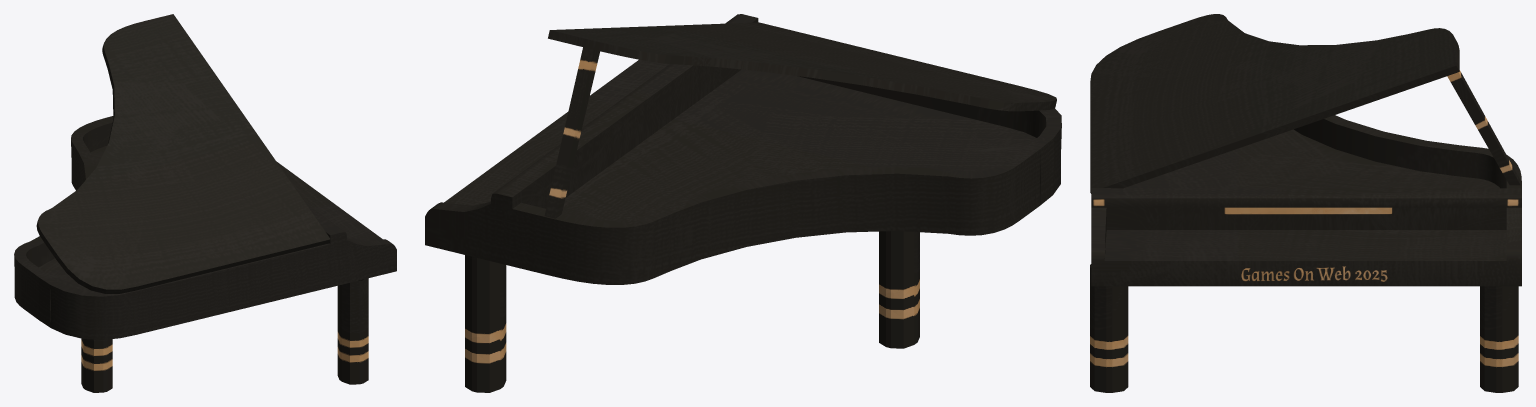
The model's file is piano_body.glb.
The picture shows the model from 3 angles, left to right: view 1: azimuth 30°, elevation 25°; view 2: azimuth 150°, elevation 25°; view 3: azimuth 270°, elevation 25°; orthographic projection. The views are drawn at different scales.
Parts seen in each view (by area): view 1: piano_body; view 2: piano_body; view 3: piano_body.
Part boxes in pixels (box(x1,y1,x2,y2)): piano_body: box(14, 14, 396, 392); piano_body: box(425, 14, 1061, 392); piano_body: box(1090, 14, 1521, 392).
Bounding box in the file's own units: 4 × 3.13 × 4.04.
2 materials, 2 textured.
